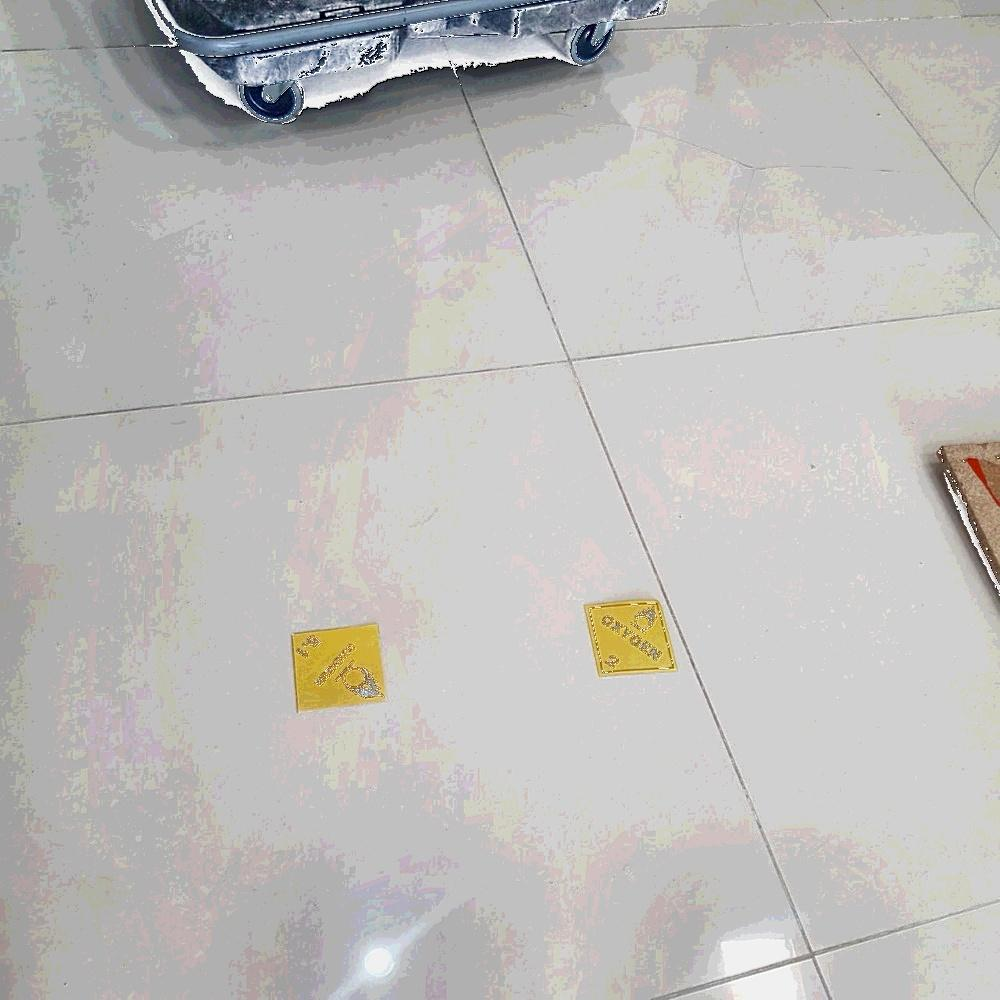oxidizer: (294, 627, 386, 712), (587, 602, 675, 679)
